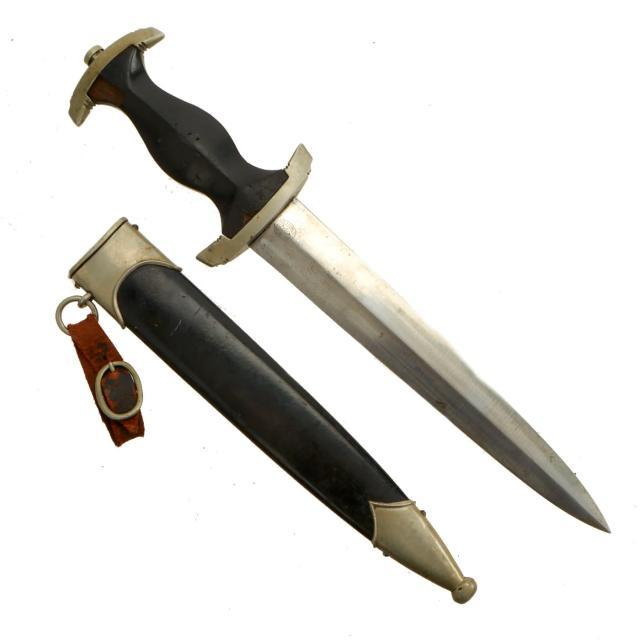short sword: (47, 8, 620, 616)
